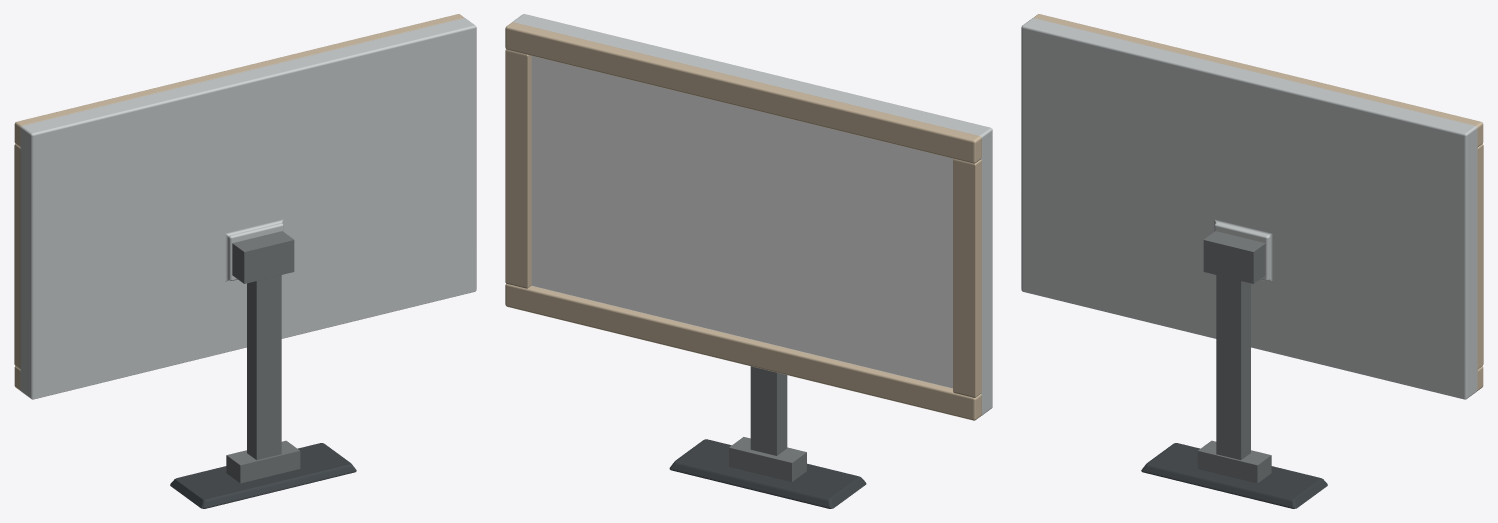
The picture shows the model from 3 angles, left to right: view 1: azimuth 30°, elevation 25°; view 2: azimuth 150°, elevation 25°; view 3: azimuth 330°, elevation 25°; orthographic projection. The views are drawn at different scales.
Visible parts, largest first — view 1: monitor_body_bezel, pedestal_arm, base_stand; view 2: display_surface, monitor_body_bezel, pedestal_arm, base_stand; view 3: monitor_body_bezel, pedestal_arm, base_stand.
Part boxes in pixels (<box>): monitor_body_bezel: <box>14,14,476,399</box>; pedestal_arm: <box>226,231,300,483</box>; base_stand: <box>170,443,356,508</box>; display_surface: <box>531,56,953,388</box>; monitor_body_bezel: <box>505,14,992,420</box>; pedestal_arm: <box>729,366,806,481</box>; base_stand: <box>669,439,866,508</box>; monitor_body_bezel: <box>1021,14,1483,399</box>; pedestal_arm: <box>1197,231,1271,483</box>; base_stand: <box>1141,443,1327,508</box>.
Size of the model in its own units: 6.4 by 5.38 by 1.08.
